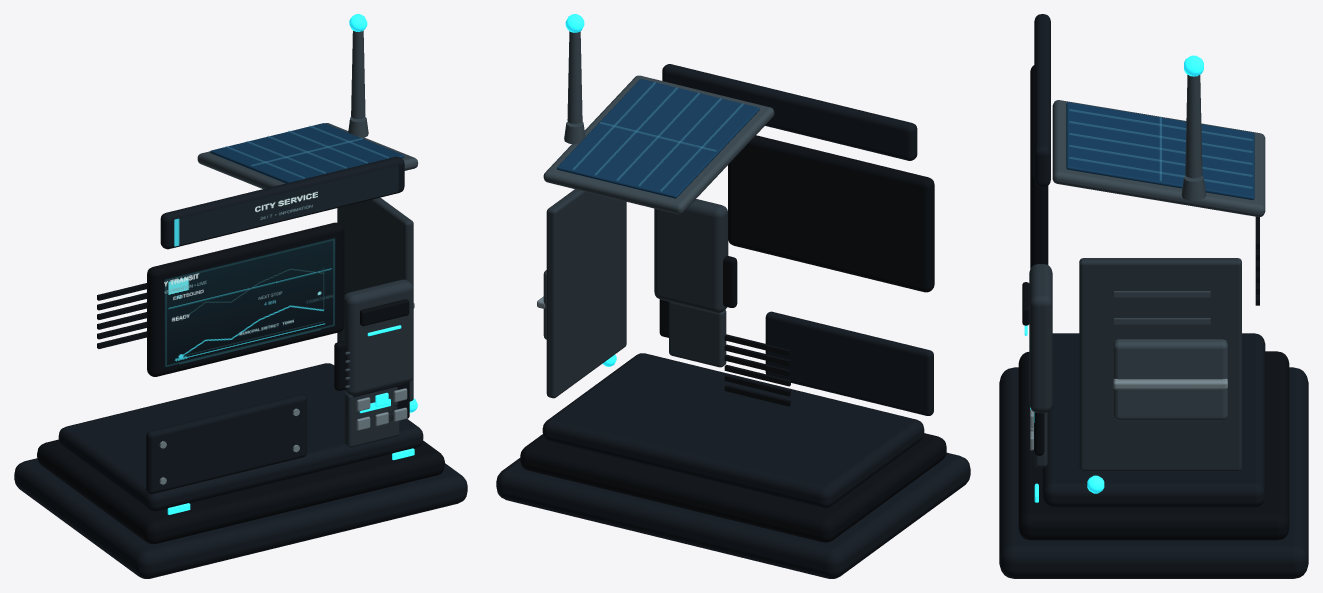
File: asset.glb
The picture shows the model from 3 angles, left to right: view 1: azimuth 30°, elevation 25°; view 2: azimuth 150°, elevation 25°; view 3: azimuth 270°, elevation 25°; orthographic projection. The views are drawn at different scales.
Parts seen in each view (by area): view 1: BaseTransition, LowerPlinth, TransitDisplay, RubberBumper, AccessDoor, DisplayBezel, CardReaderHousing, HeaderDisplay, SolarPanel, SideServicePanel, HeaderHousing, LowerServiceModule (+4 smaller); view 2: BaseTransition, DisplayBezel, LowerPlinth, RubberBumper, SideServicePanel, SolarPanel, AccessDoor, HeaderHousing, CardReaderHousing, SolarPanelFrame, LowerServiceModule, AntennaMast (+1 smaller); view 3: SideServicePanel, LowerPlinth, BaseTransition, RubberBumper, SolarPanel, SideHandle, SolarPanelFrame, CardReaderHousing, HeaderHousing, DisplayBezel, AntennaMast, SideHandleGrip (+9 smaller).
Part boxes in pixels (x1,y1,x2,y2): BaseTransition: (58,363,423,511); LowerPlinth: (14,458,467,578); TransitDisplay: (164,237,335,368); RubberBumper: (37,439,444,544); AccessDoor: (146,394,306,494); DisplayBezel: (147,222,344,376); CardReaderHousing: (342,279,413,395); HeaderDisplay: (174,165,398,246); SolarPanel: (210,123,404,183); SideServicePanel: (337,197,413,401); HeaderHousing: (160,156,404,249); LowerServiceModule: (344,386,399,447); BaseTransition: (542,353,924,508); DisplayBezel: (728,135,934,292); LowerPlinth: (496,452,970,578); RubberBumper: (520,433,946,542); SideServicePanel: (546,189,626,398); SolarPanel: (557,79,759,198); AccessDoor: (765,311,933,415); HeaderHousing: (662,64,917,160); CardReaderHousing: (654,199,728,312); SolarPanelFrame: (543,75,774,214); LowerServiceModule: (669,301,726,367); AntennaMast: (567,31,582,123); SideServicePanel: (1079,258,1241,471); LowerPlinth: (999,367,1308,578); BaseTransition: (1042,333,1265,507); RubberBumper: (1018,351,1289,540); SolarPanel: (1066,102,1254,200); SideHandle: (1113,339,1227,420); SolarPanelFrame: (1052,100,1265,216); CardReaderHousing: (1029,264,1052,413); HeaderHousing: (1034,14,1050,187); DisplayBezel: (1030,65,1048,268); AntennaMast: (1185,74,1202,178); SideHandleGrip: (1113,378,1227,389).
Bounding box in the file's own units: 2.68 × 3.38 × 1.86.
10 materials, 2 textured.
